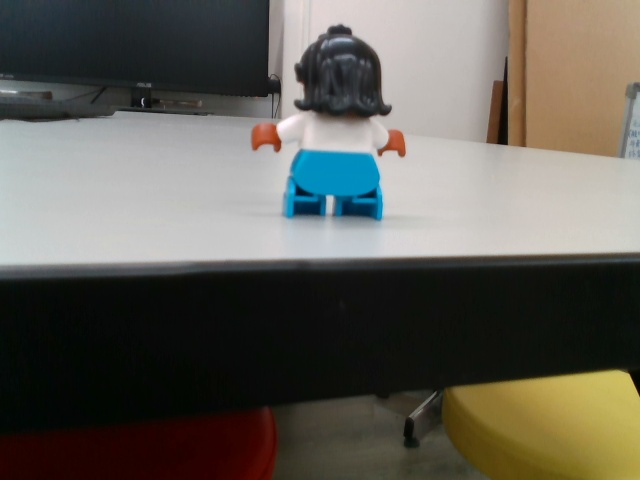people: (250, 24, 410, 223)
